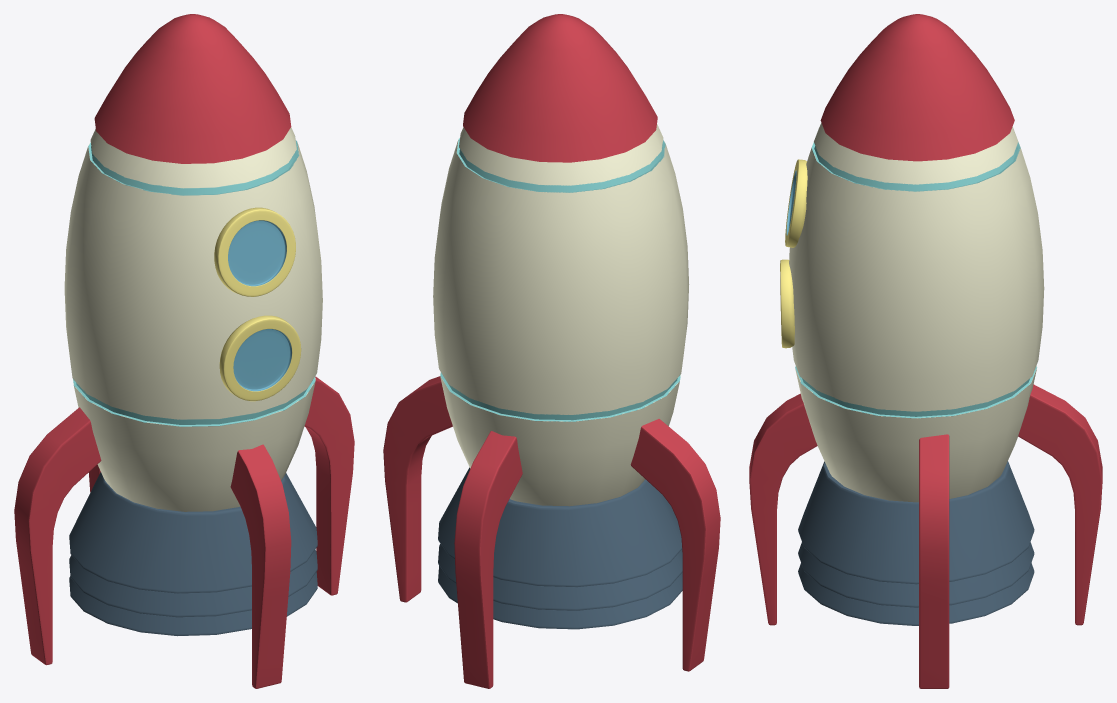
Rendered from Toy rocket ship.fbx.
The picture shows the model from 3 angles, left to right: view 1: azimuth 30°, elevation 25°; view 2: azimuth 150°, elevation 25°; view 3: azimuth 270°, elevation 25°; orthographic projection.
Visible parts, largest first — view 1: Ship_body, Ship_f, Ship_bottom, Ship_window; view 2: Ship_body, Ship_f, Ship_bottom; view 3: Ship_body, Ship_bottom, Ship_f, Ship_window.
Boxes of the visible parts, x1,y1,x2,y2 form: Ship_body: (64, 14, 322, 511); Ship_f: (14, 376, 354, 688); Ship_bottom: (69, 472, 317, 636); Ship_window: (214, 207, 301, 401); Ship_body: (433, 14, 689, 506); Ship_f: (383, 376, 720, 688); Ship_bottom: (438, 467, 682, 629); Ship_body: (789, 14, 1044, 502); Ship_bottom: (798, 461, 1034, 625); Ship_f: (749, 384, 1102, 688); Ship_window: (780, 159, 807, 348).
Size of the model in its own units: 5.34 by 9.62 by 5.11.
4 materials, 4 textured.
